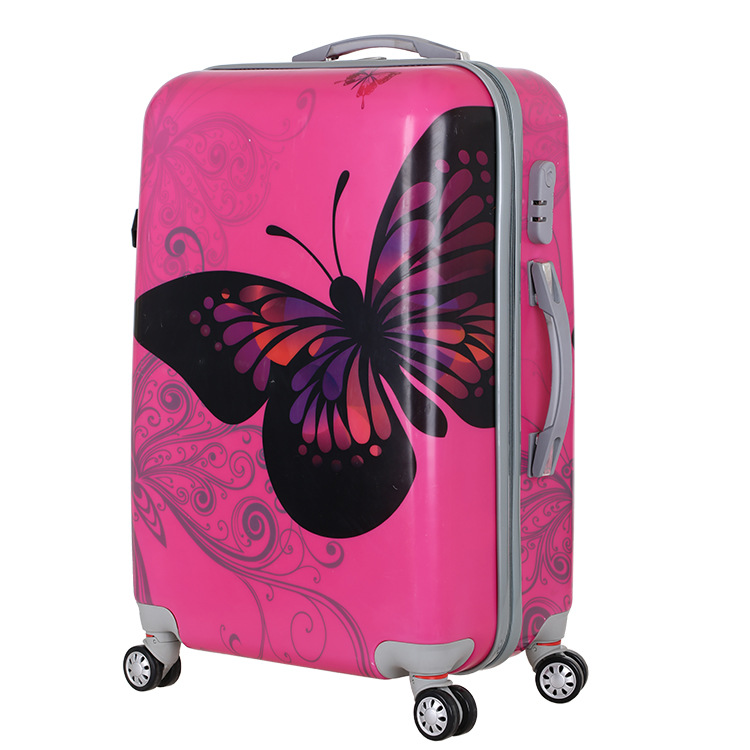luggage: (122, 33, 588, 743)
